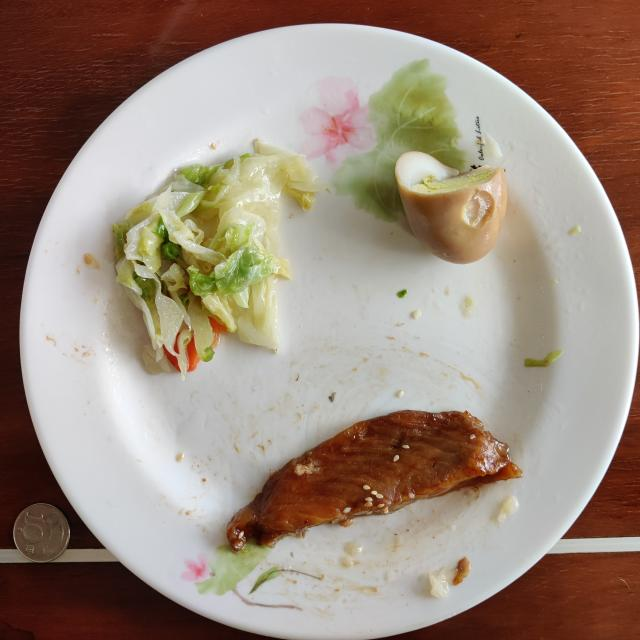Kabayaki sea bream fillet: (228, 410, 521, 551)
cabbage: (112, 140, 325, 378)
coin: (14, 504, 70, 562)
soy egg: (395, 151, 506, 264)
